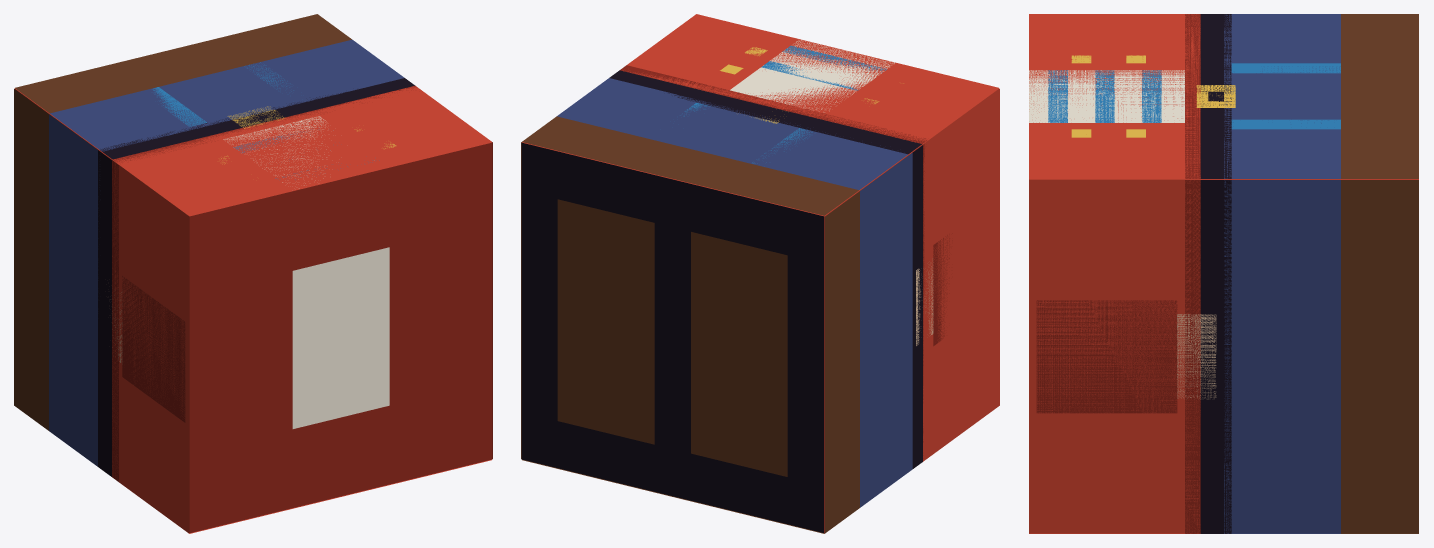
File: buggy_legs.obj
3 views of the same model, side by side, from view 1: azimuth 30°, elevation 25°; view 2: azimuth 150°, elevation 25°; view 3: azimuth 270°, elevation 25° (orthographic). The views are drawn at different scales.
Visible parts, largest first — view 1: buggy_legs_decal, buggy_legs; view 2: buggy_legs_decal, buggy_legs; view 3: buggy_legs_decal.
Part boxes in pixels (x1=…): buggy_legs_decal: x1=14, y1=14, x2=492, y2=533; buggy_legs: x1=14, y1=88, x2=492, y2=533; buggy_legs_decal: x1=521, y1=14, x2=999, y2=533; buggy_legs: x1=521, y1=88, x2=999, y2=533; buggy_legs_decal: x1=1029, y1=14, x2=1418, y2=533.
Bounding box in the file's own units: 1 × 1 × 1.
